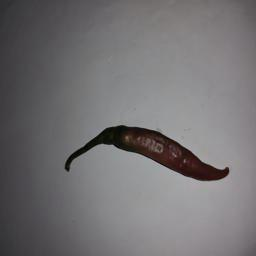Buah Cabai Sehat: (98, 123, 230, 182)
